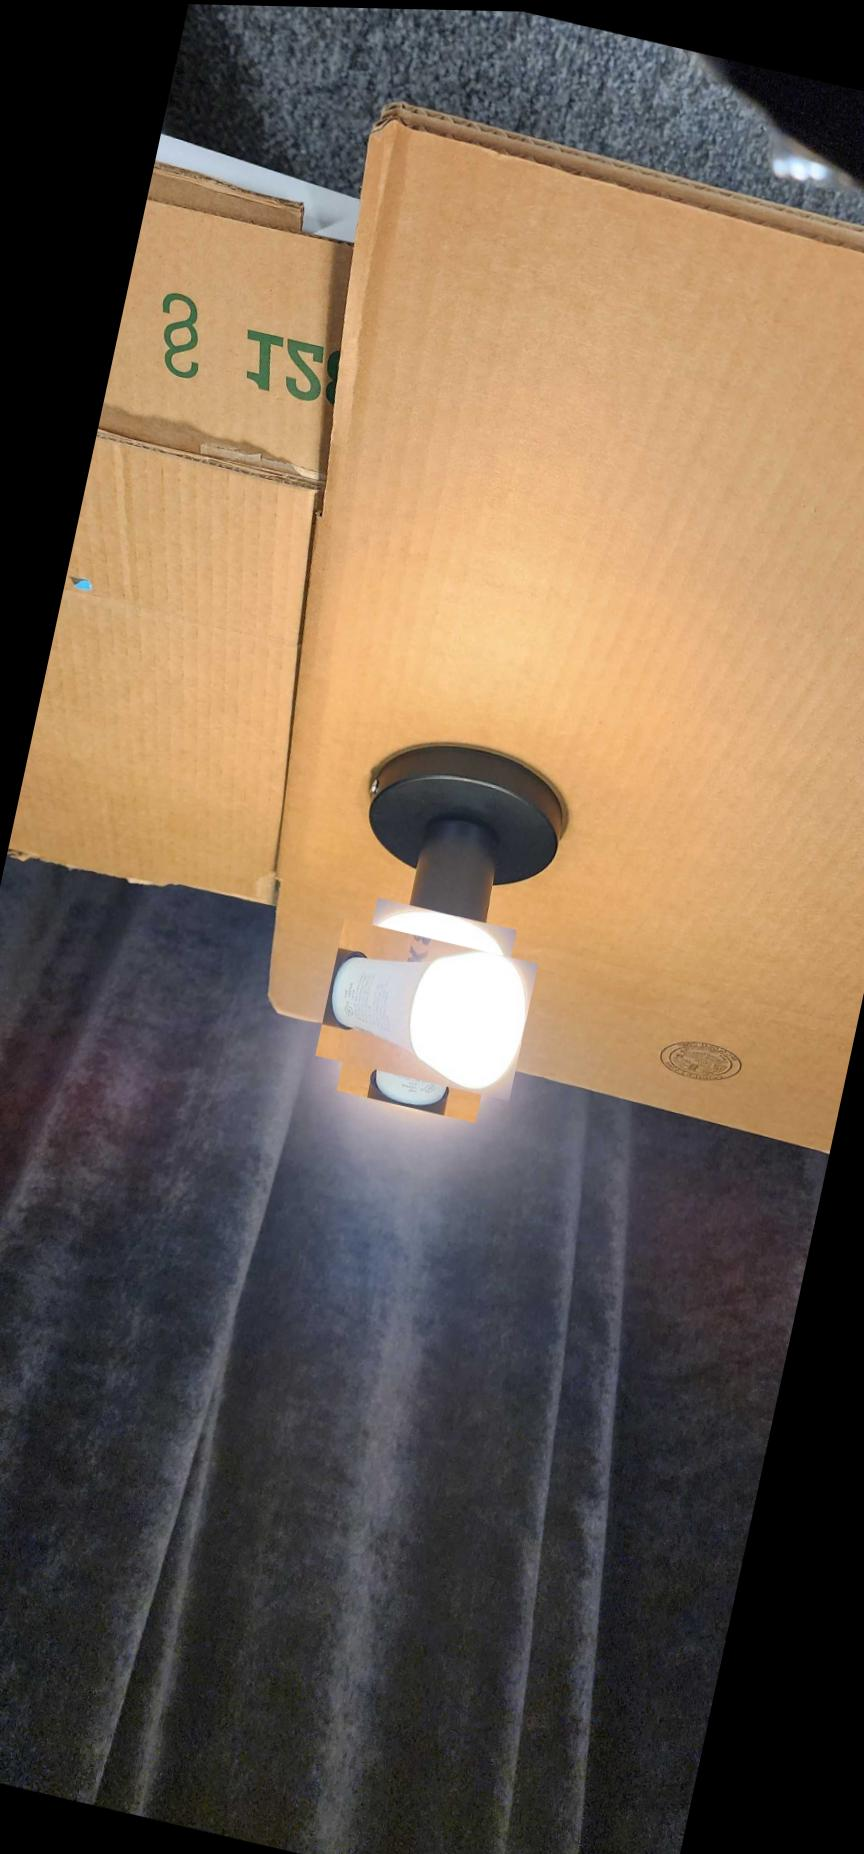TubeLight: (325, 905, 527, 1110)
